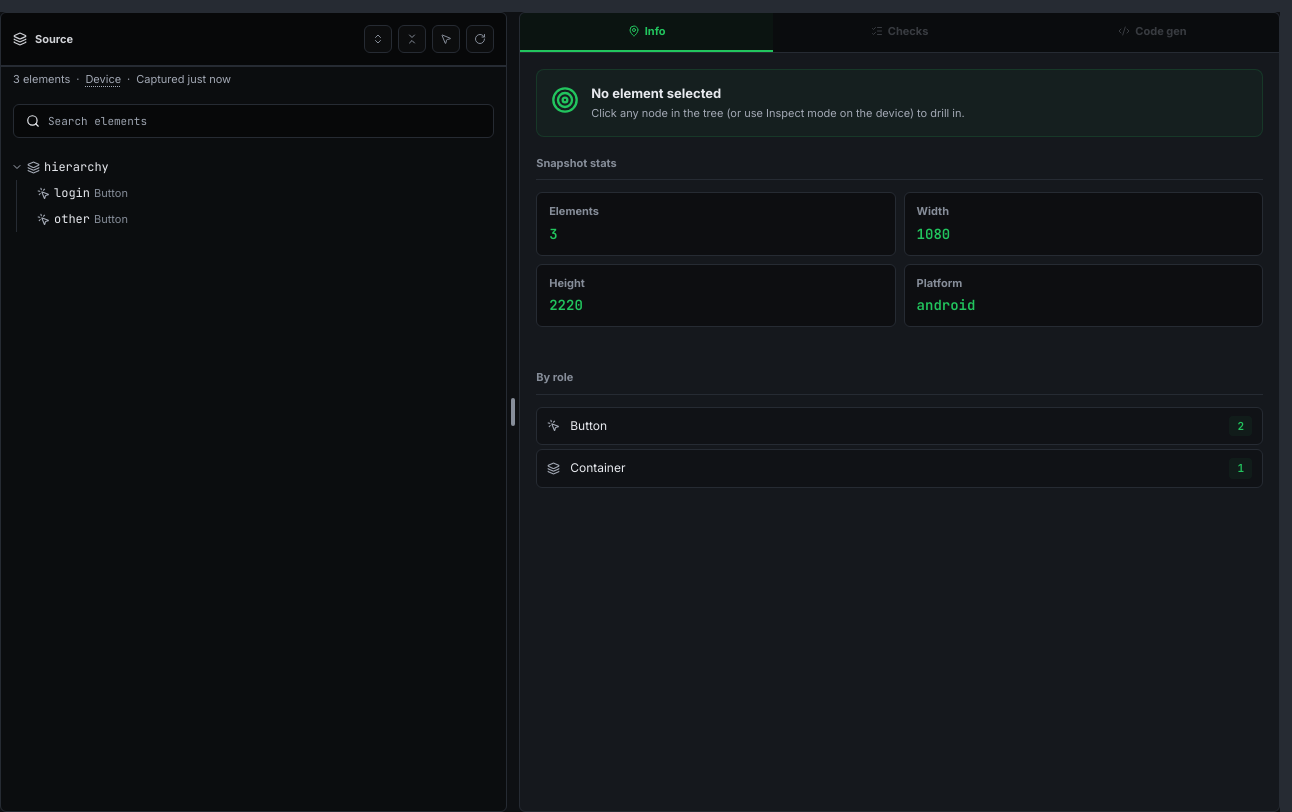
OmniInspector — Code gen › keeps the chosen locator across a Refresh, with the new capture’s value
Step 1. Click the list item "login Button" → click(69, 193), box x1=11 y1=180 x2=128 y2=206
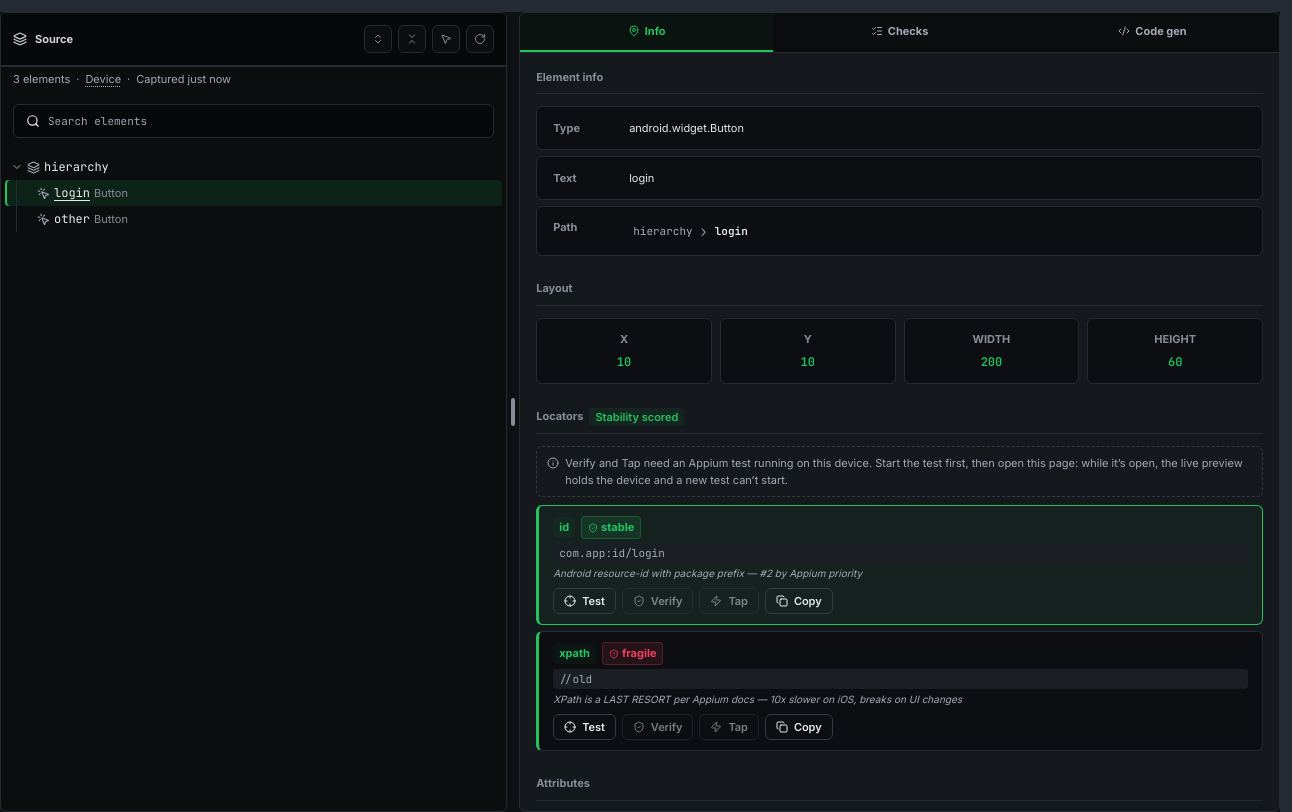
Step 2. Click the tab "Code gen" → click(1153, 32), box x1=1026 y1=13 x2=1279 y2=52
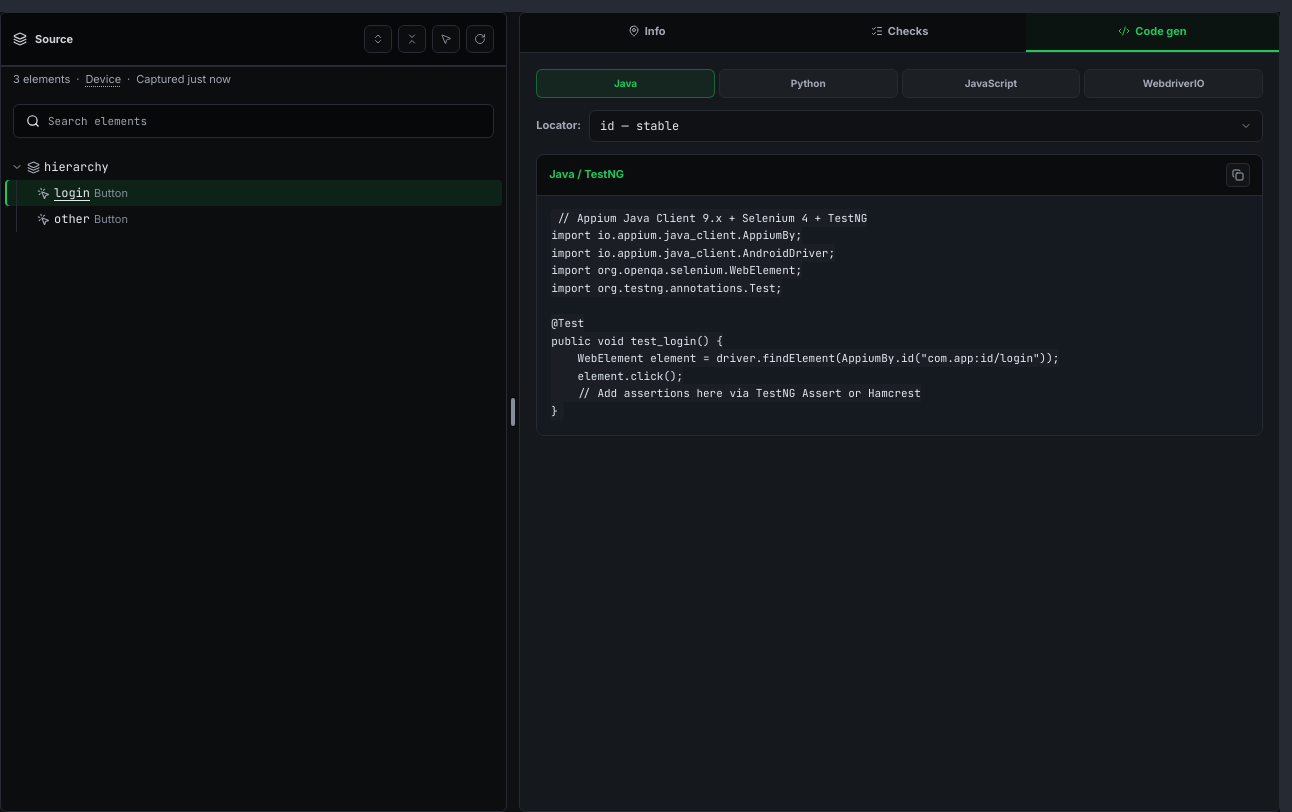
Result: the dropdown shows "id — stable"
Step 3. Select "xpath — fragile" in the dropdown → (926, 126), box x1=589 y1=110 x2=1263 y2=142
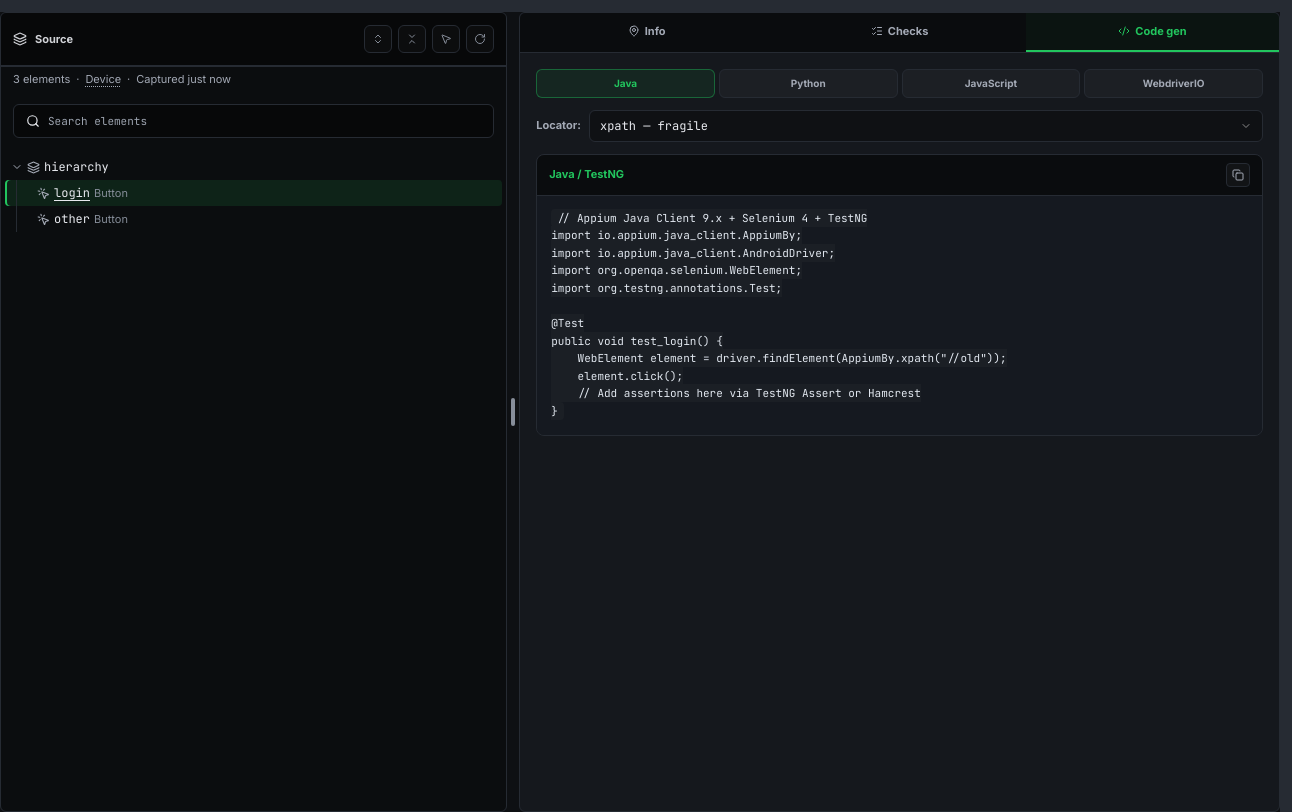
Result: the text "//old" is shown at x1=551 y1=210 x2=1007 y2=418
Step 4. Click the button named "Refresh snapshot" → click(480, 39), box x1=466 y1=25 x2=494 y2=53
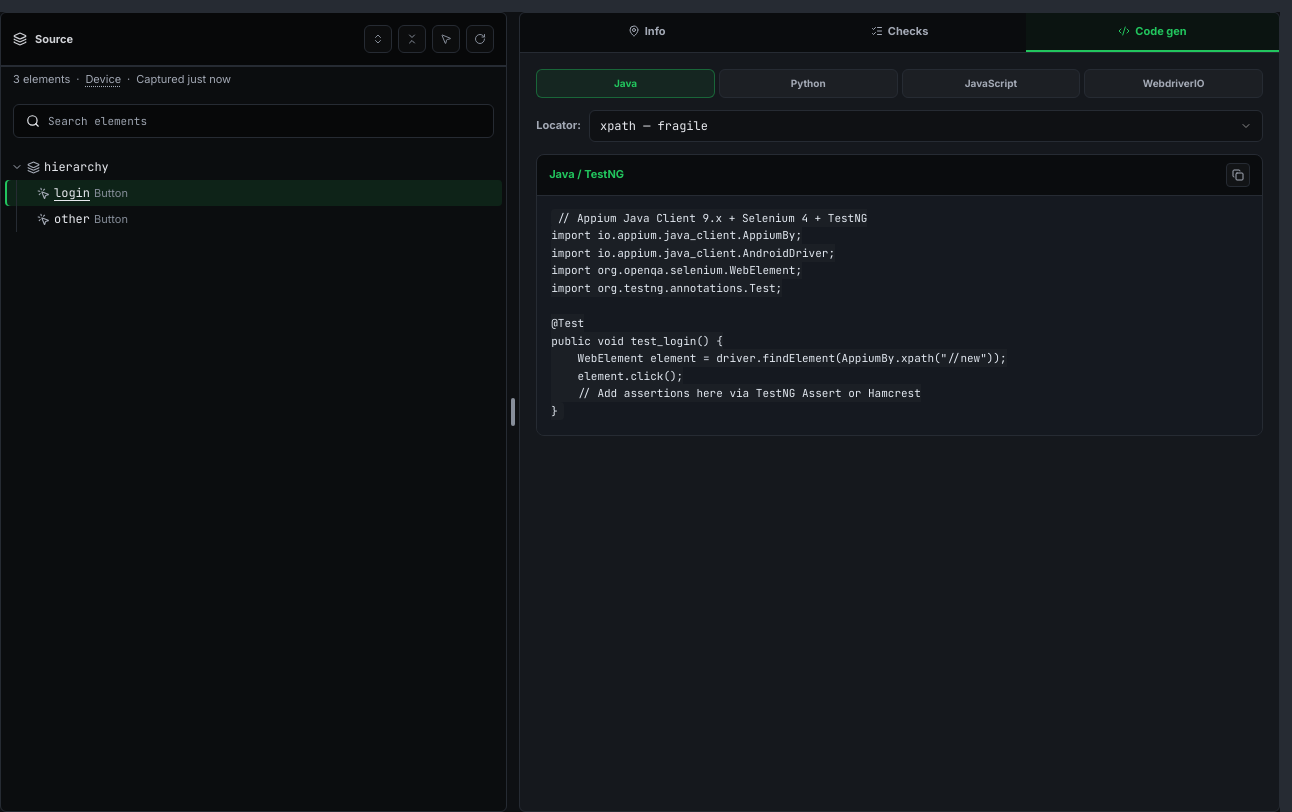
Result: the text "//new" is shown at x1=551 y1=210 x2=1007 y2=418
Result: the text "//old" is gone
